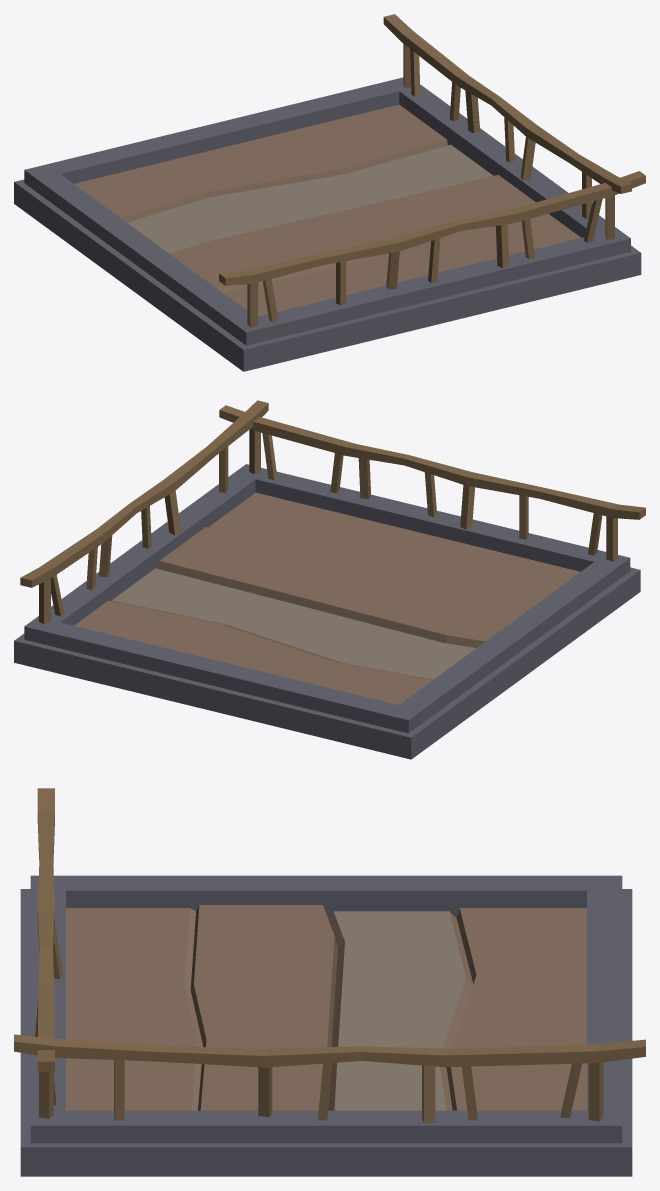
Rendered from SM_Bld_Shanty_Roof_04.glb.
3 views of the same model, one above another, from view 1: azimuth 30°, elevation 25°; view 2: azimuth 150°, elevation 25°; view 3: azimuth 270°, elevation 25° (orthographic). The views are drawn at different scales.
Visible parts, largest first — view 1: SM_Bld_Shanty_Roof_04_part00; view 2: SM_Bld_Shanty_Roof_04_part00; view 3: SM_Bld_Shanty_Roof_04_part00.
Boxes of the visible parts, box(x1,y1,x2,y2) form: SM_Bld_Shanty_Roof_04_part00: box(14, 14, 645, 371); SM_Bld_Shanty_Roof_04_part00: box(14, 400, 645, 759); SM_Bld_Shanty_Roof_04_part00: box(14, 788, 645, 1176).
Size of the model in its own units: 5.7 by 1.24 by 5.58.
Materials: 1 (1 with a texture image).
